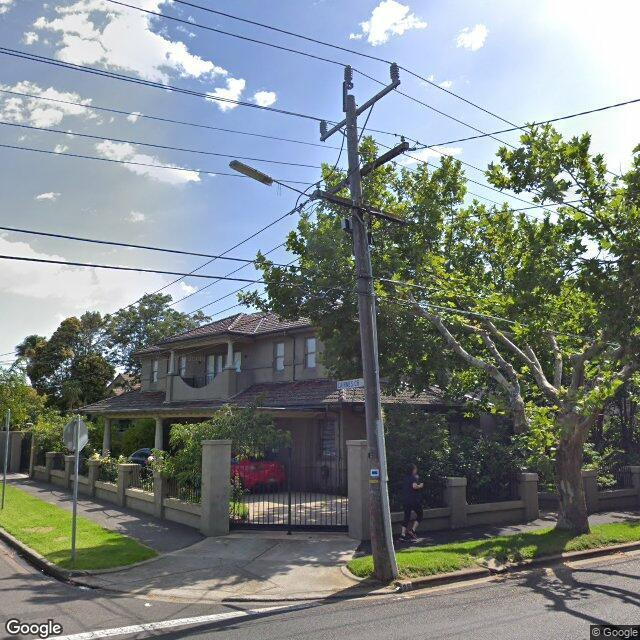HV-transmission: (318, 63, 402, 140)
crossarm: (320, 79, 402, 141), (326, 140, 411, 196), (311, 188, 405, 224)
streetlight: (228, 160, 312, 200)
timber-pole: (343, 96, 400, 581)
